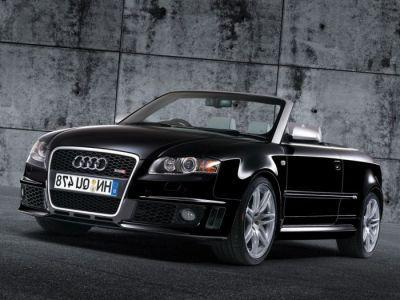Car: (11, 84, 391, 272)
